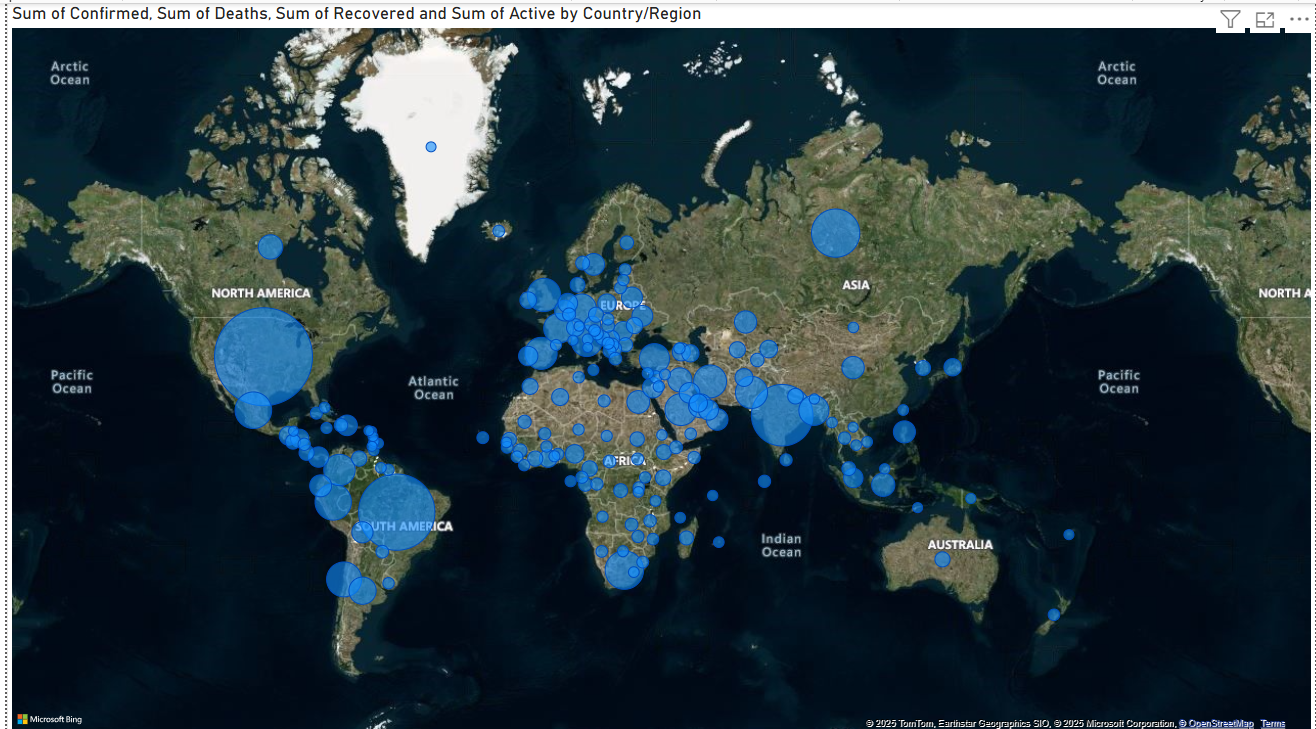

The page's visual inventory and layout, read from the dashboard file:
{"tool":"powerbi","page":{"name":"Page 2","canvas":[1280,720],"ordinal":1},"visuals":[{"type":"map","fields":{"Category":["country_wise_latest.Country/Region"],"Size":["Sum(country_wise_latest.Confirmed)"]},"box":[0,0,1280.3,720.4],"z":0}]}

Visuals, with their boxes in screenshot pixels (x1, y1, x2, y2), scaled from the page's 1280x720 canvas onto the 1316x729 screenshot:
map - country_wise_latest.Country/Region x Sum(country_wise_latest.Confirmed): 0, 0, 1315, 728
